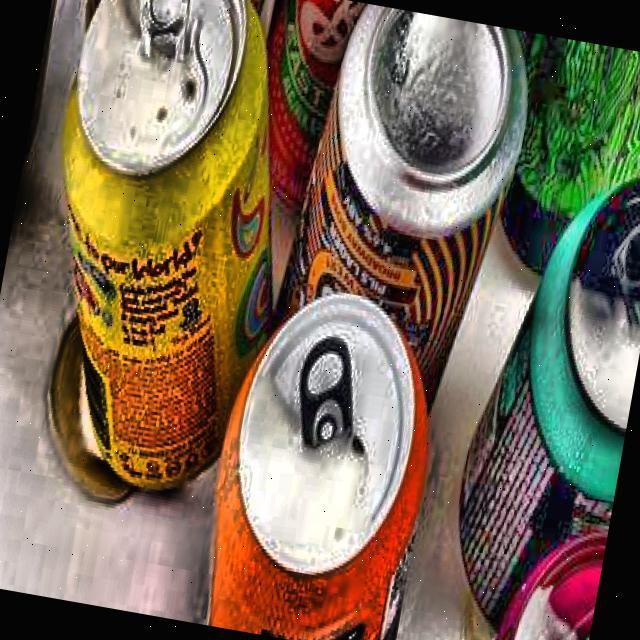metal: (0, 0, 339, 531), (252, 0, 544, 453), (419, 132, 640, 640), (187, 267, 472, 640), (226, 0, 463, 261), (455, 26, 640, 305), (65, 0, 291, 101)
